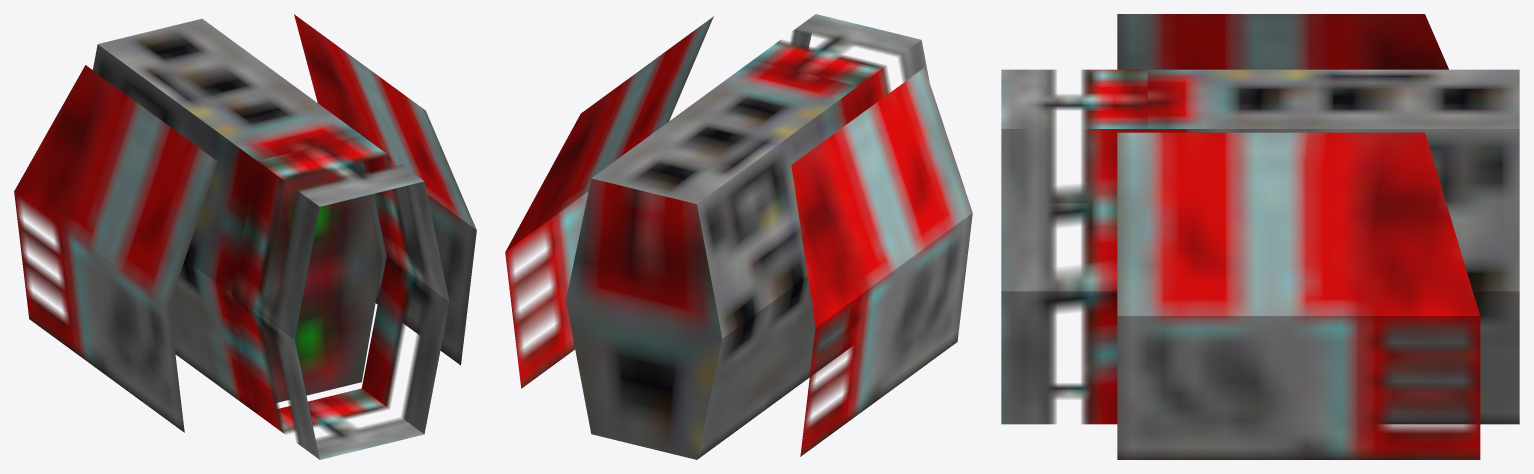
The picture shows the model from 3 angles, left to right: view 1: azimuth 30°, elevation 25°; view 2: azimuth 150°, elevation 25°; view 3: azimuth 270°, elevation 25°; orthographic projection. The views are drawn at different scales.
Parts seen in each view (by area): view 1: root; view 2: root; view 3: root.
Boxes of the visible parts, <box> form: root: <box>14,14,476,459</box>; root: <box>505,14,972,459</box>; root: <box>1001,14,1519,459</box>.
Size of the model in its own units: 0.7168 by 0.6133 by 0.8984.
1 material, 1 textured.
